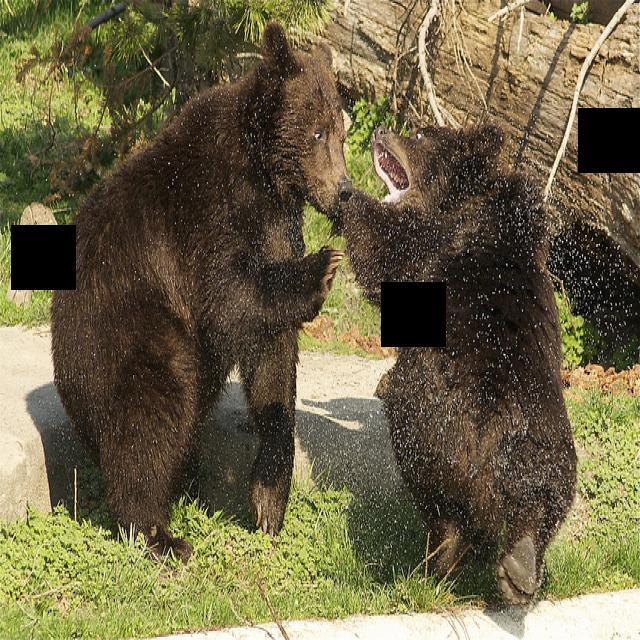Bear: (49, 25, 332, 574), (354, 84, 576, 606)
